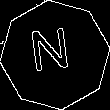N_S: (32, 27, 78, 83)
